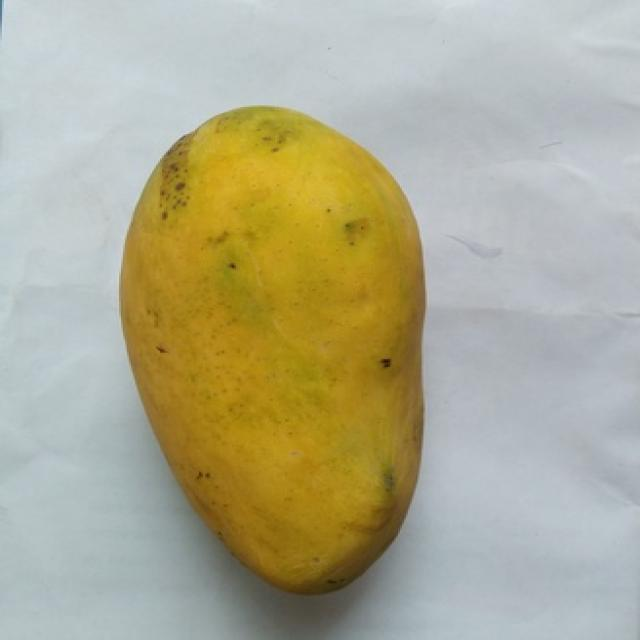Mango: (123, 107, 423, 591)
